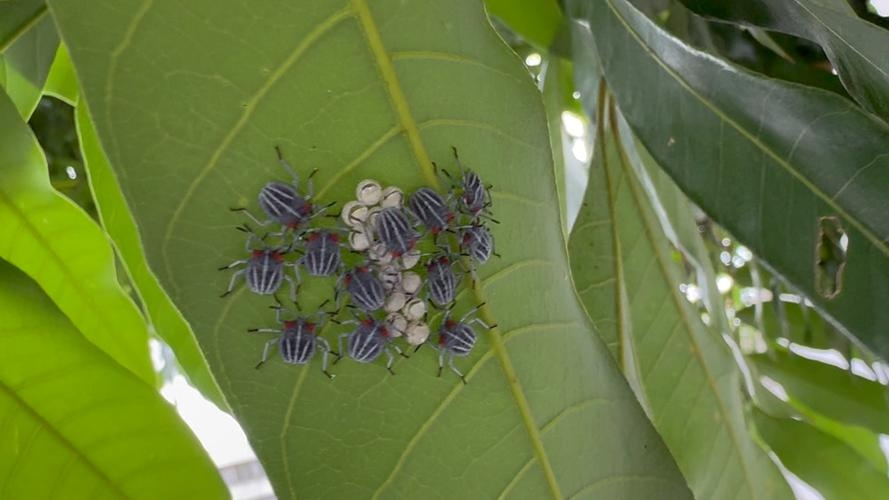Stink_Bug: (346, 147, 448, 400), (346, 175, 459, 253), (253, 303, 331, 363), (434, 141, 503, 203), (222, 232, 294, 286), (257, 167, 333, 217), (436, 315, 507, 362), (346, 321, 415, 365), (301, 225, 352, 282), (352, 263, 408, 313), (428, 257, 476, 296), (457, 223, 505, 255)
